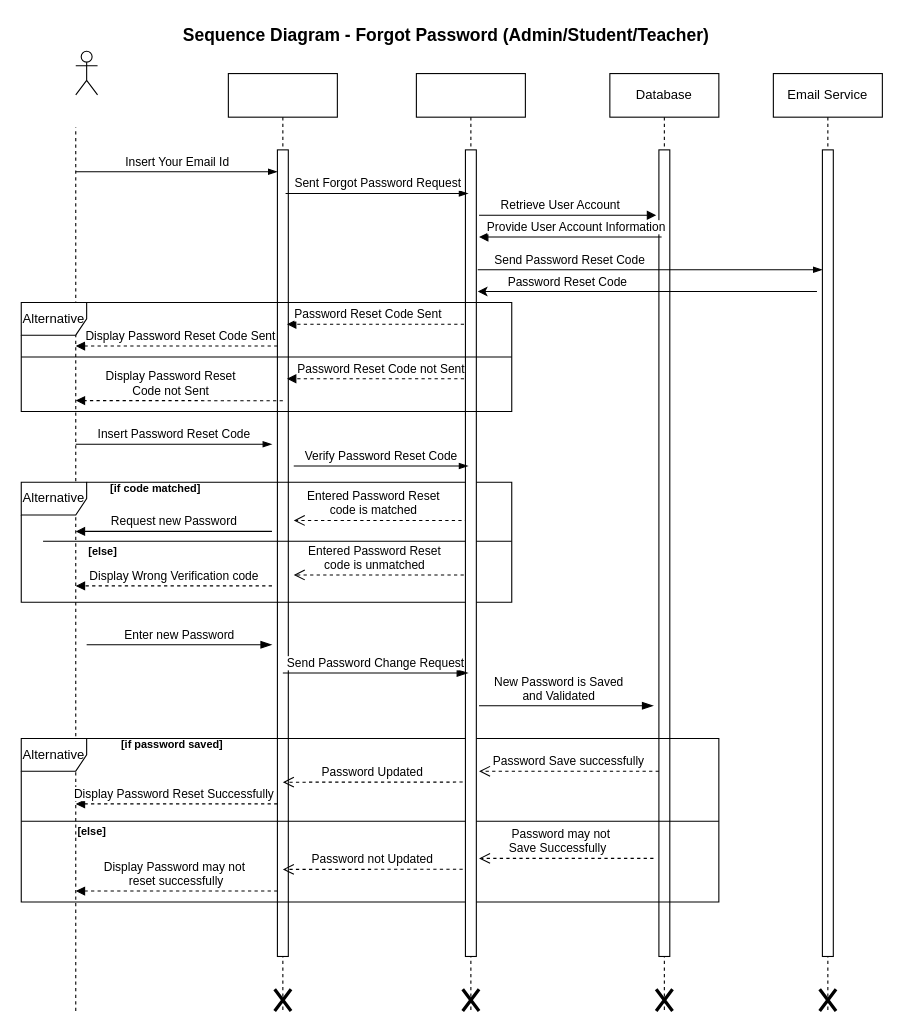
Image size: 901x1031. Some labels were removed from this diagram. The shapes that lost their labels are listed below. From the top down, each one's box as (x1, y1, x2, y2) in pixels, then its label:
(75, 50, 98, 95): Student/Admin/Teacher
(227, 72, 337, 1011): Forgot Password UI
(415, 72, 525, 1011): Forgot Password Control
